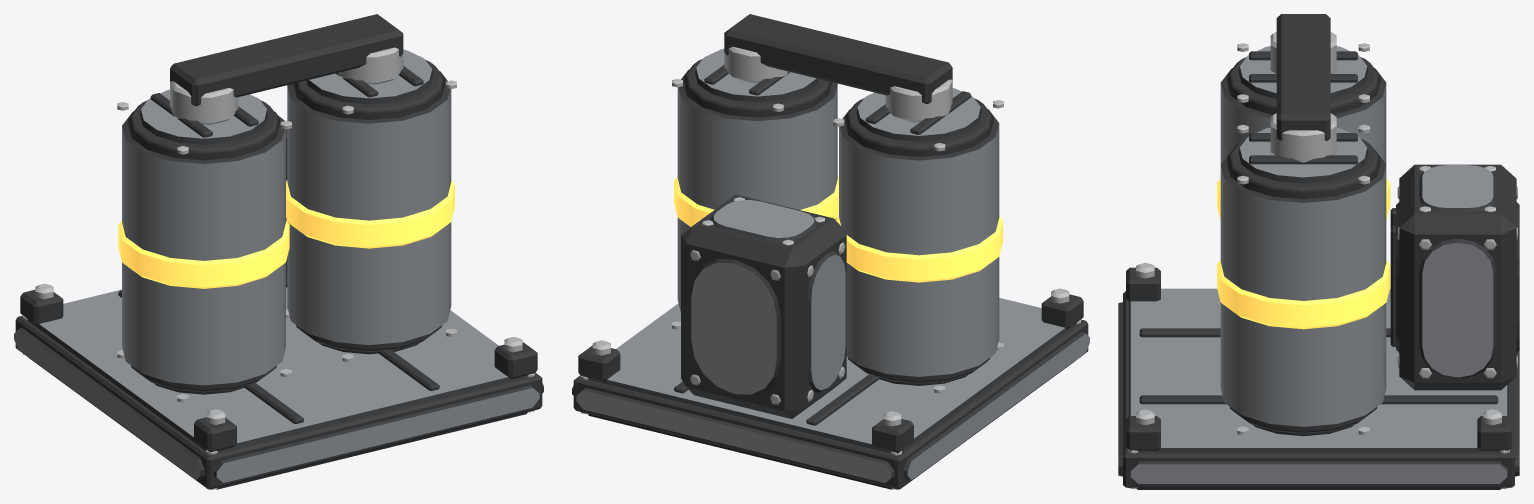
The model's file is R4X_Battery.fbx.
3 renders of one model, left to right at view 1: azimuth 30°, elevation 25°; view 2: azimuth 150°, elevation 25°; view 3: azimuth 270°, elevation 25°, orthographic. The views are drawn at different scales.
Parts seen in each view (by area): view 1: R4X_Battery_Body; view 2: R4X_Battery_Body; view 3: R4X_Battery_Body.
Part boxes in pixels (x1,y1,x2,y2): R4X_Battery_Body: [14, 14, 543, 489]; R4X_Battery_Body: [572, 14, 1089, 489]; R4X_Battery_Body: [1118, 14, 1519, 489].
Bounding box in the file's own units: 0.52 × 0.495 × 0.52.
